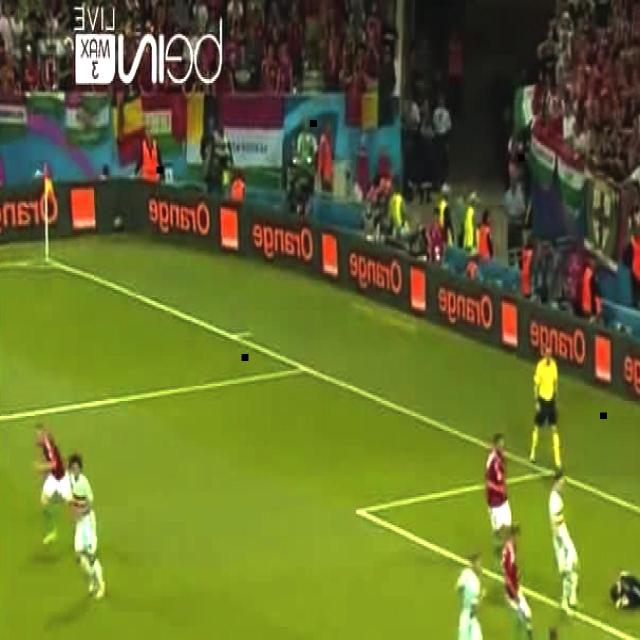player-white: (35, 423, 80, 547), (70, 456, 106, 600), (441, 550, 492, 640), (550, 470, 580, 616), (503, 529, 542, 640), (530, 342, 562, 468), (486, 434, 516, 566), (611, 570, 640, 608), (540, 628, 572, 640)
